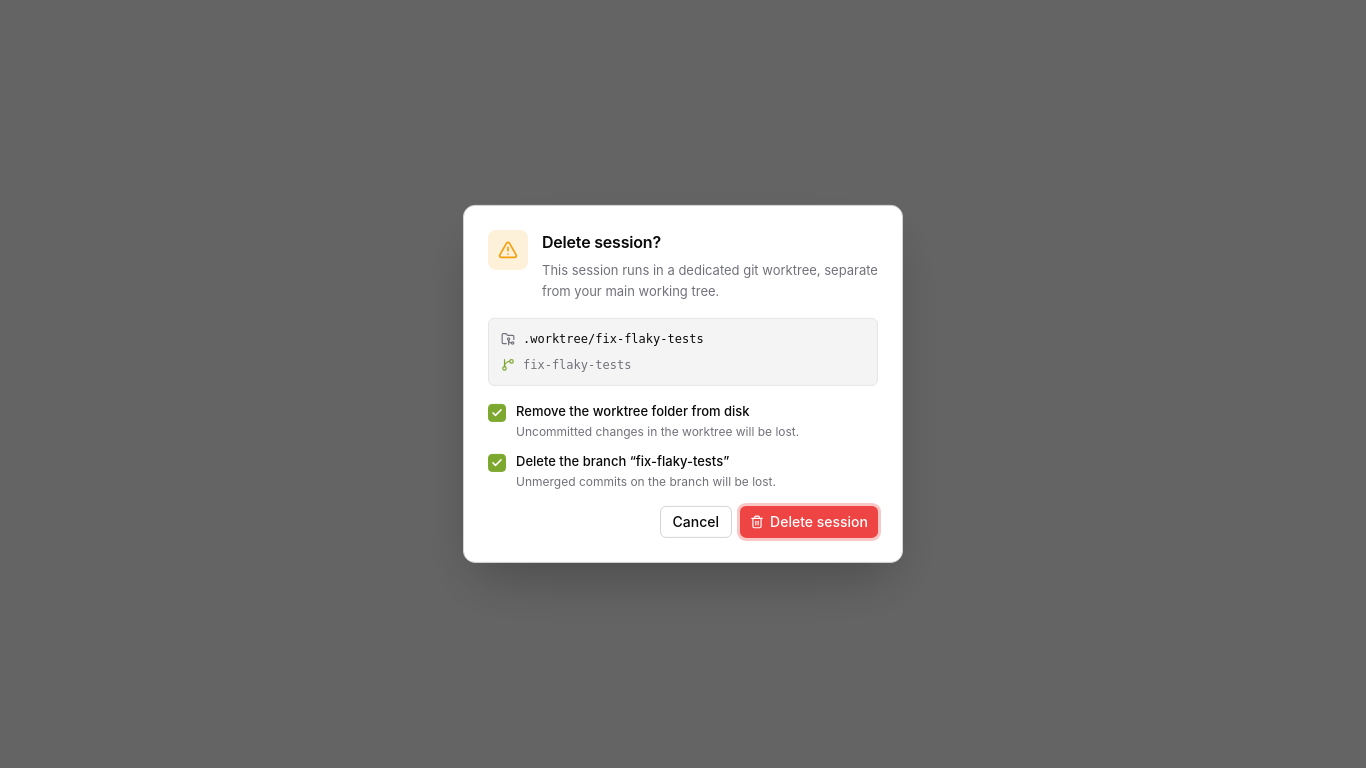
default choices › keeps the branch when its box is un-ticked
Later steps or results of the test are not shown.
expect the dialog is shown: met, box 463,205 -> 903,563
Click the checkbox next to "Delete the branch" at x=497, y=463, box 488,454 -> 506,472
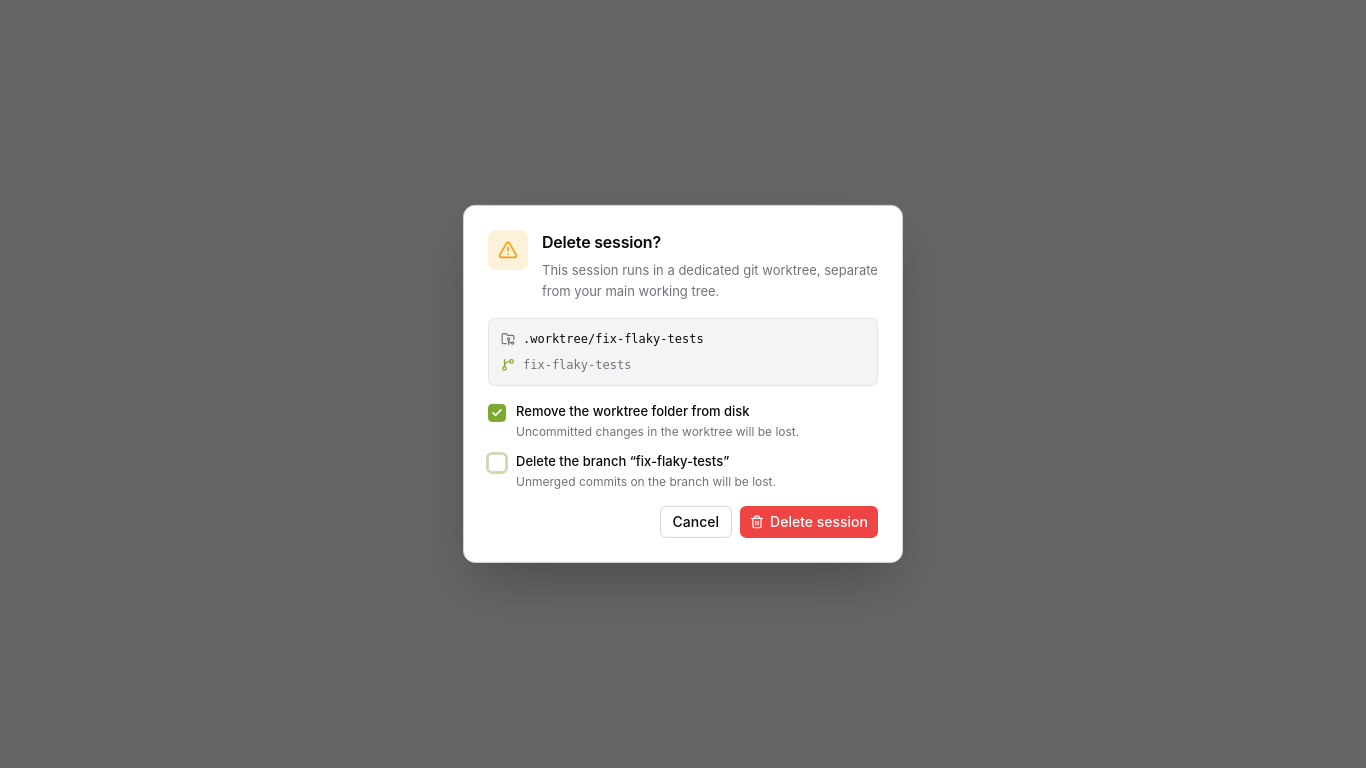
expect the checkbox next to "Delete the branch" is not checked: met, box 488,454 -> 506,472
